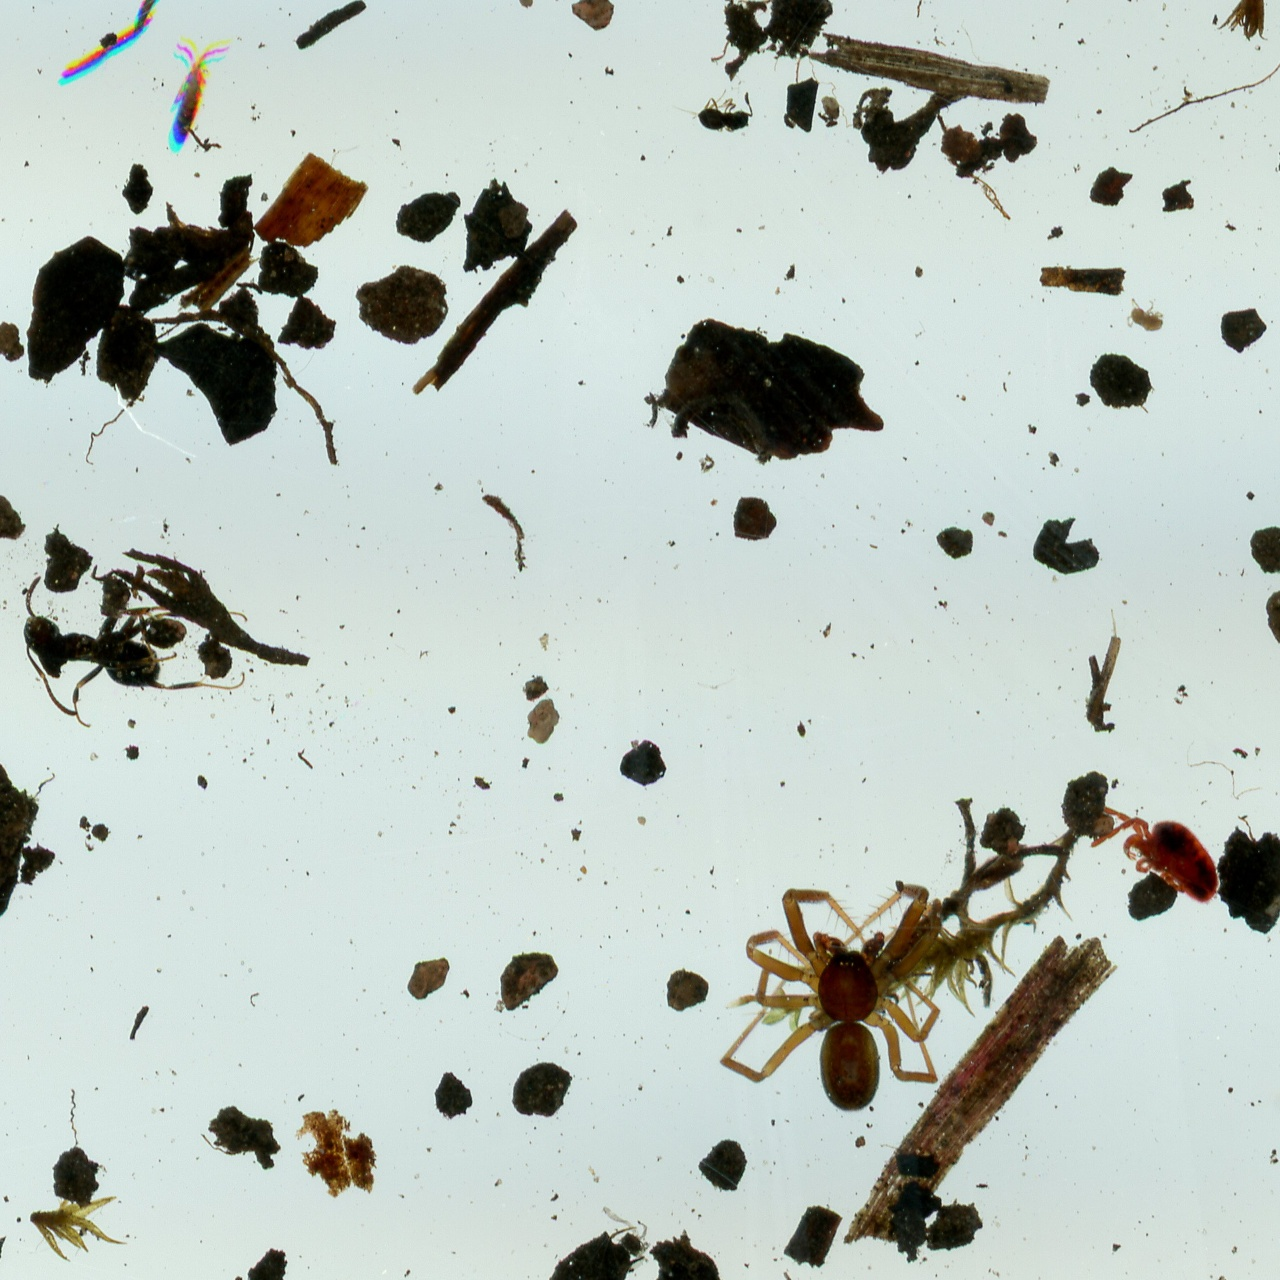arthropod: (715, 880, 945, 1116), (14, 571, 254, 730), (1085, 797, 1221, 910), (154, 22, 239, 163), (670, 89, 757, 138), (1124, 294, 1165, 335)
